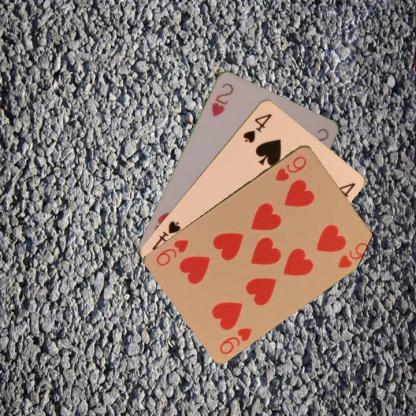2h: (209, 80, 235, 118)
4s: (240, 110, 274, 144)
9h: (216, 325, 254, 355), (272, 153, 309, 182)
